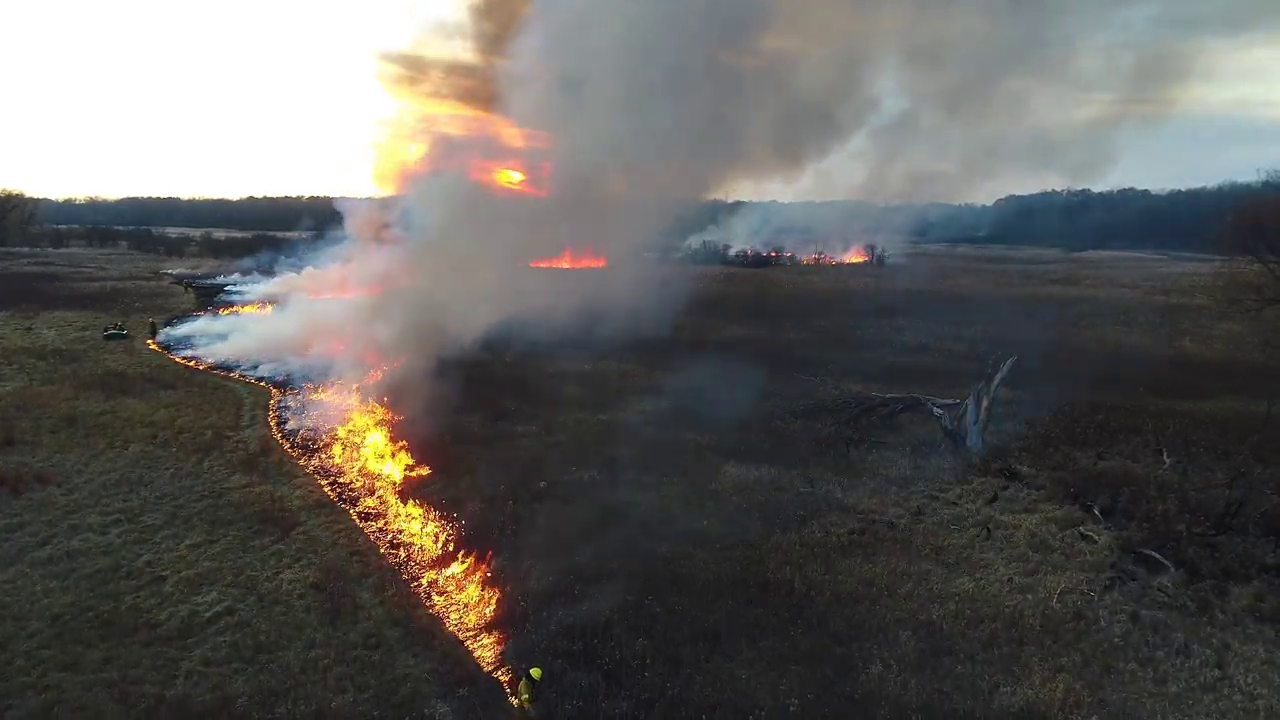forest_fire: (148, 339, 512, 688), (528, 248, 607, 267), (217, 302, 273, 314), (841, 248, 870, 262)
